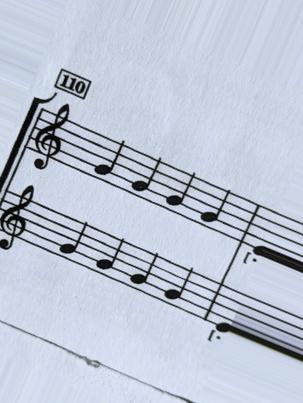note: (198, 170, 234, 246), (126, 141, 162, 214), (163, 154, 198, 228), (56, 204, 91, 277), (95, 220, 127, 295), (92, 122, 125, 192), (161, 255, 197, 314), (128, 237, 160, 301)
